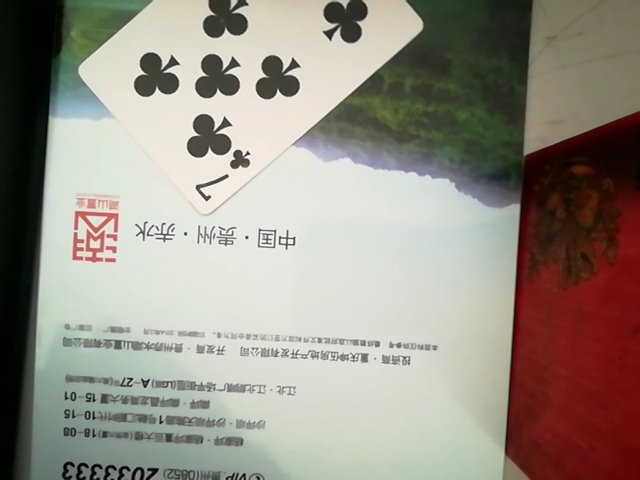mh 7: (71, 0, 430, 204)
